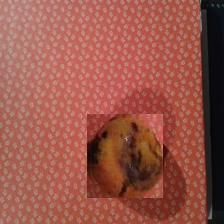Mango Rotten: (87, 114, 163, 198)
